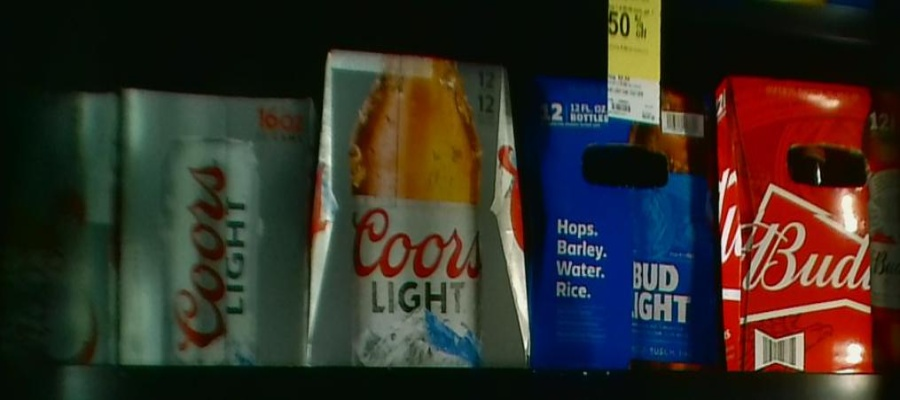bottle: (317, 48, 528, 373), (121, 82, 315, 371), (718, 70, 900, 374), (538, 75, 719, 375), (1, 89, 118, 368)
